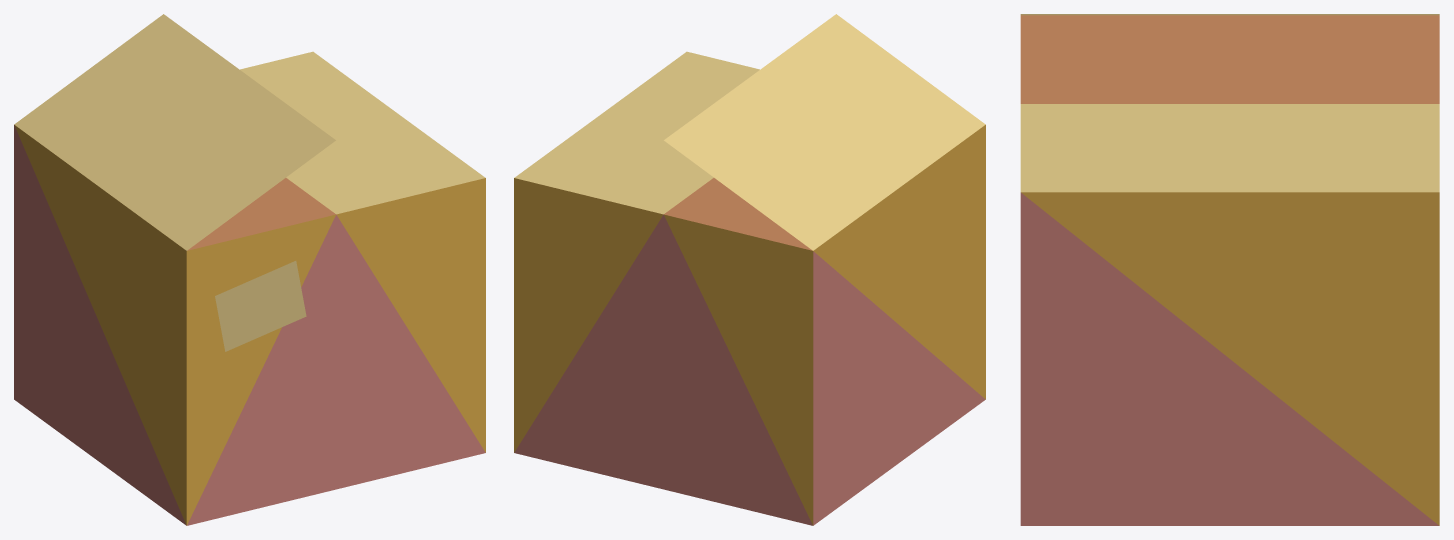
File: itch_kaykit_city_bits_box_b.glb
The picture shows the model from 3 angles, left to right: view 1: azimuth 30°, elevation 25°; view 2: azimuth 150°, elevation 25°; view 3: azimuth 270°, elevation 25°; orthographic projection. The views are drawn at different scales.
Visible parts, largest first — view 1: box_B; view 2: box_B; view 3: box_B.
Boxes of the visible parts, <box> form: box_B: <box>14,14,485,525</box>; box_B: <box>514,14,985,525</box>; box_B: <box>1020,14,1439,525</box>.
Size of the model in its own units: 1.16 by 1.3 by 1.18.
